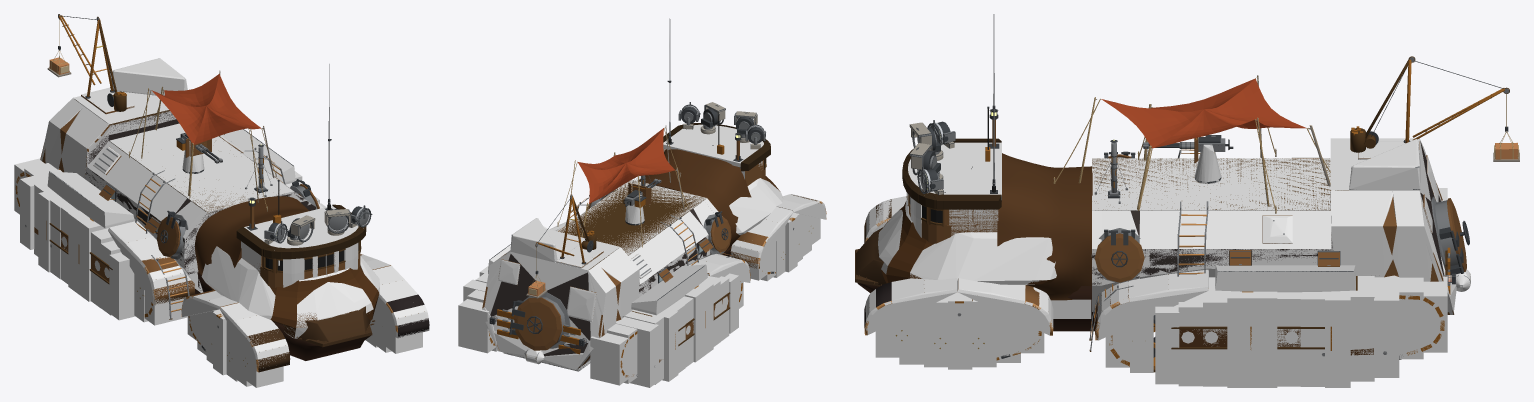
The model's file is dune_barge.fbx.
3 renders of one model, left to right at view 1: azimuth 30°, elevation 25°; view 2: azimuth 150°, elevation 25°; view 3: azimuth 270°, elevation 25°, orthographic. The views are drawn at different scales.
Parts seen in each view (by area): view 1: COL_DuneBarge_0037, S06_Canopy, neck, COL_DuneBarge_0008, COL_DuneBarge_0079, Cube.001, COL_DuneBarge_0078, COL_DuneBarge_0016, COL_DuneBarge_0111, COL_DuneBarge_0147, COL_DuneBarge_0073, COL_DuneBarge_0119 (+58 smaller); view 2: Mesh_RearHull_Roof, neck, S06_Canopy, Mesh_RearHull_Stern, Mesh_Hatch_Roof_Lid, COL_DuneBarge_0025, COL_DuneBarge_0037, COL_DuneBarge_0078, COL_DuneBarge_0093, COL_DuneBarge_0008, COL_DuneBarge_0091, COL_DuneBarge_0110 (+42 smaller); view 3: COL_DuneBarge_0037, neck, COL_DuneBarge_0007, S06_Canopy, COL_DuneBarge_0069, COL_DuneBarge_0095, COL_DuneBarge_0094, COL_DuneBarge_0025, COL_DuneBarge_0042, COL_DuneBarge_0043, COL_DuneBarge_0070, COL_DuneBarge_0147 (+53 smaller).
Boxes of the visible parts, x1,y1,x2,y2 form: COL_DuneBarge_0037: (109, 123, 293, 213); S06_Canopy: (152, 74, 260, 144); neck: (195, 196, 310, 289); COL_DuneBarge_0008: (201, 246, 275, 319); COL_DuneBarge_0079: (108, 221, 194, 305); Cube.001: (270, 266, 379, 338); COL_DuneBarge_0078: (47, 171, 134, 228); COL_DuneBarge_0016: (294, 282, 373, 338); COL_DuneBarge_0111: (220, 303, 289, 371); COL_DuneBarge_0147: (110, 58, 187, 95); COL_DuneBarge_0073: (61, 106, 110, 178); COL_DuneBarge_0119: (373, 265, 429, 338); Mesh_RearHull_Roof: (559, 180, 704, 255); neck: (637, 149, 751, 251); S06_Canopy: (578, 128, 674, 203); Mesh_RearHull_Stern: (490, 254, 590, 356); Mesh_Hatch_Roof_Lid: (510, 297, 562, 350); COL_DuneBarge_0025: (663, 124, 763, 167); COL_DuneBarge_0037: (559, 180, 706, 255); COL_DuneBarge_0078: (631, 264, 707, 315); COL_DuneBarge_0093: (590, 333, 628, 385); COL_DuneBarge_0008: (729, 178, 783, 235); COL_DuneBarge_0091: (616, 317, 658, 387); COL_DuneBarge_0110: (730, 206, 793, 269); COL_DuneBarge_0037: (1092, 158, 1330, 210); neck: (997, 153, 1092, 300); COL_DuneBarge_0007: (910, 232, 1056, 284); S06_Canopy: (1101, 78, 1306, 148); COL_DuneBarge_0069: (1330, 190, 1392, 277); COL_DuneBarge_0095: (1095, 269, 1208, 340); COL_DuneBarge_0094: (1215, 265, 1355, 292); COL_DuneBarge_0025: (908, 142, 1001, 199); COL_DuneBarge_0042: (1149, 210, 1207, 277); COL_DuneBarge_0043: (1207, 210, 1264, 277); COL_DuneBarge_0070: (1392, 190, 1433, 281); COL_DuneBarge_0147: (1349, 139, 1420, 190).
Size of the model in its own units: 953 by 1163 by 2104.
